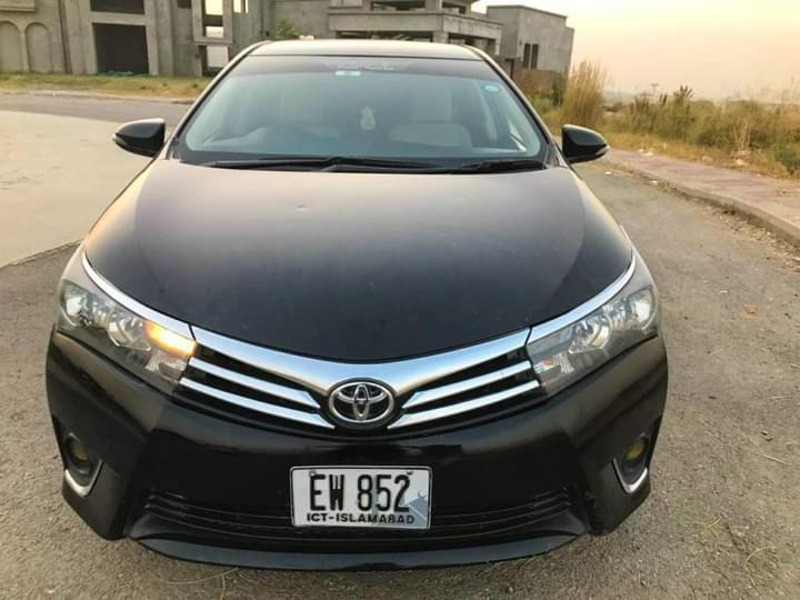License Plate: (286, 460, 440, 537)
